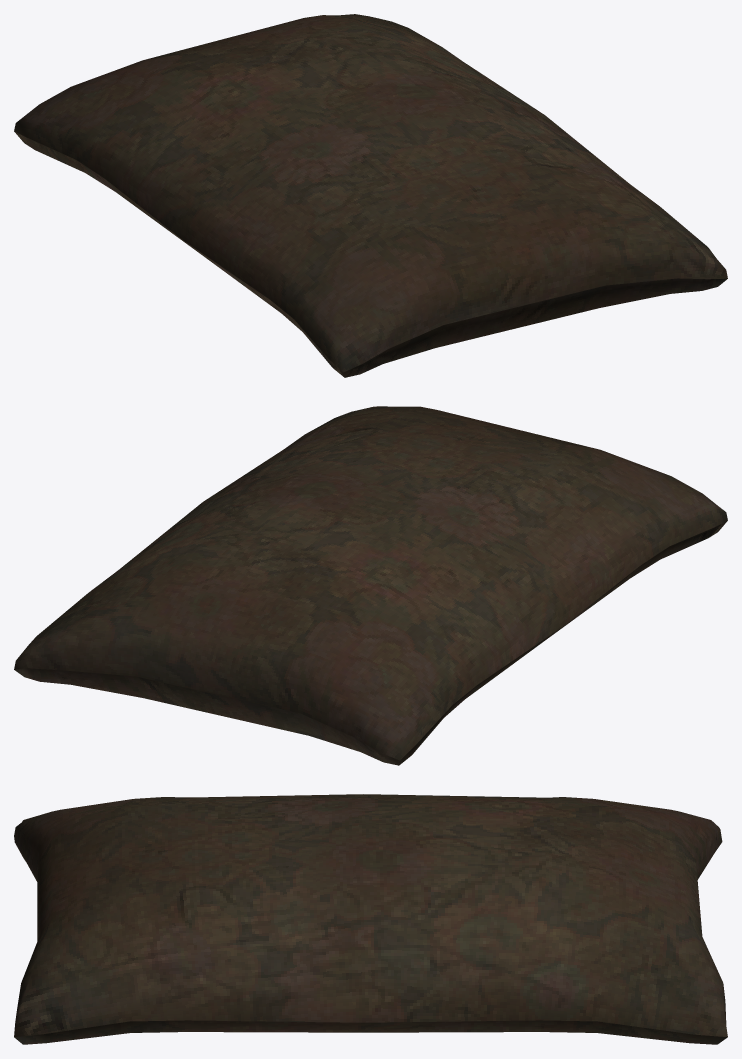
Rendered from pillow_mp_2.glb.
3 renders of one model, top to bottom at view 1: azimuth 30°, elevation 25°; view 2: azimuth 150°, elevation 25°; view 3: azimuth 270°, elevation 25°, orthographic. The views are drawn at different scales.
Parts seen in each view (by area): view 1: pillow_mp_2; view 2: pillow_mp_2; view 3: pillow_mp_2.
Part boxes in pixels (<box>): pillow_mp_2: <box>14,14,727,377</box>; pillow_mp_2: <box>14,406,727,765</box>; pillow_mp_2: <box>14,794,727,1044</box>.
Bounding box in the file's own units: 0.5481 × 0.1624 × 0.814.
1 material, 1 textured.
